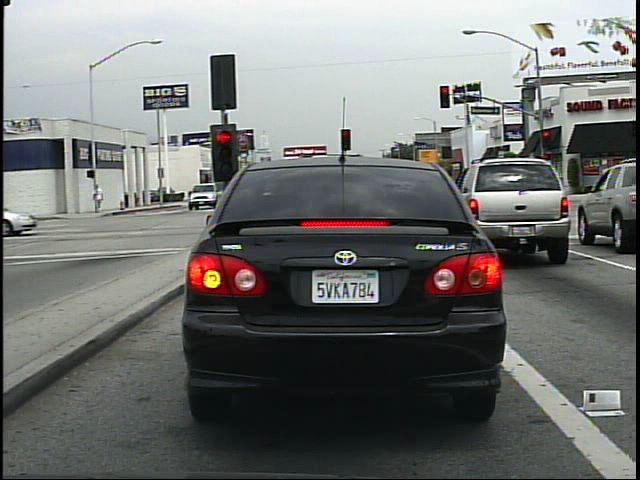person: (88, 183, 109, 218)
